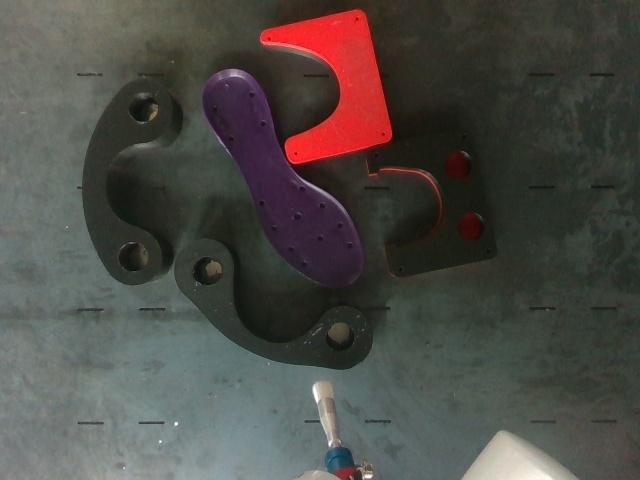shoes: (203, 68, 363, 287)
